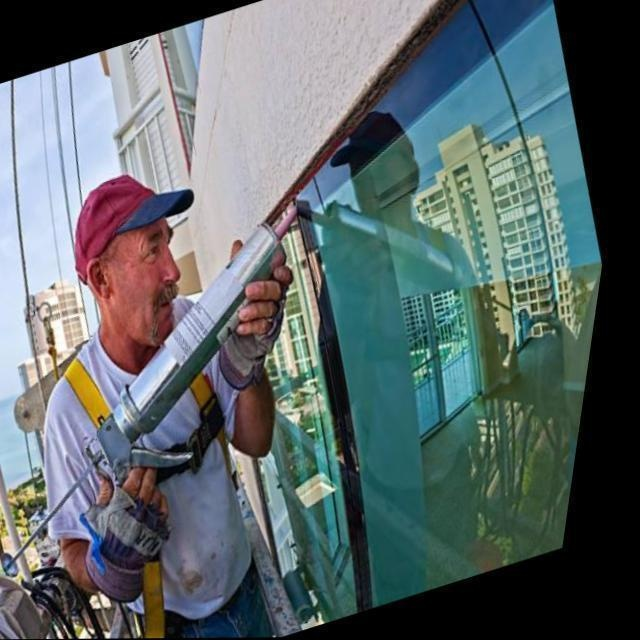Arnes_seguridad: (67, 323, 248, 608)
